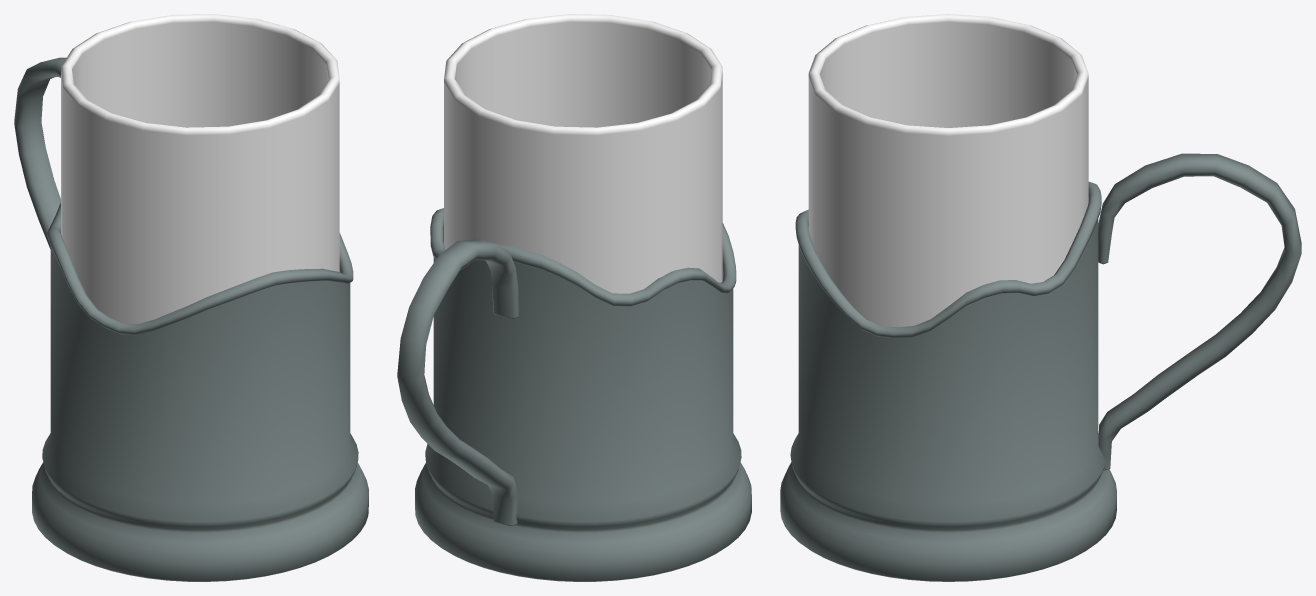
Rendered from lp_cup_holder_yaroslavl.glb.
3 renders of one model, left to right at view 1: azimuth 30°, elevation 25°; view 2: azimuth 150°, elevation 25°; view 3: azimuth 270°, elevation 25°, orthographic.
Visible parts, largest first — view 1: Object_3, Object_2; view 2: Object_3, Object_2; view 3: Object_3, Object_2.
Boxes of the visible parts, bbox=[...] form: Object_3: bbox=[14, 57, 368, 581]; Object_2: bbox=[61, 14, 339, 323]; Object_3: bbox=[397, 208, 751, 581]; Object_2: bbox=[444, 14, 722, 293]; Object_3: bbox=[780, 153, 1301, 581]; Object_2: bbox=[808, 14, 1088, 327].
Size of the model in its own units: 10.04 by 14.51 by 15.55.
Materials: 2 (1 with a texture image).
